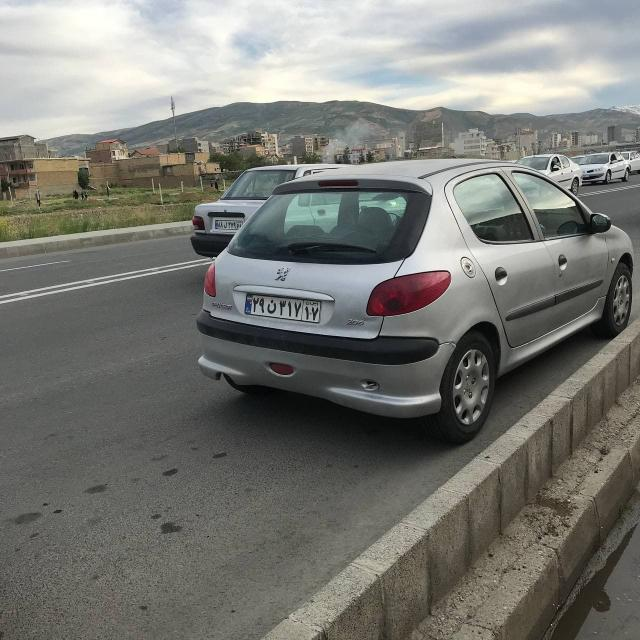Plates: (244, 293, 321, 323)
